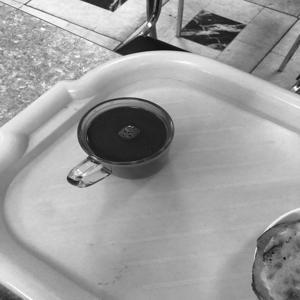coffee: (68, 97, 173, 181)
